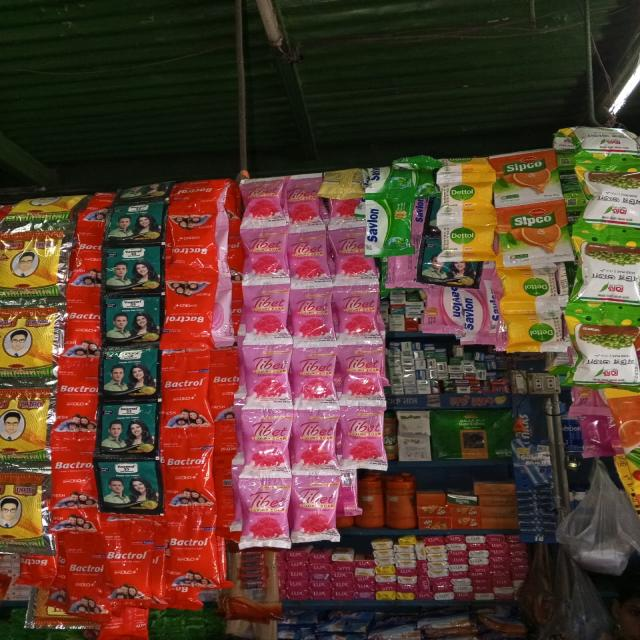non-ubl: (325, 217, 378, 299), (99, 538, 157, 611), (288, 474, 344, 546), (237, 410, 296, 476), (160, 368, 210, 444), (165, 523, 223, 588), (242, 276, 297, 341), (336, 402, 388, 470), (163, 275, 215, 343), (162, 450, 210, 523), (238, 342, 296, 402), (241, 483, 290, 551), (289, 412, 343, 473), (238, 174, 292, 234), (284, 228, 334, 292), (329, 282, 384, 340), (362, 194, 416, 253), (49, 451, 98, 515), (238, 222, 292, 279), (61, 558, 110, 618), (334, 340, 390, 392), (288, 350, 341, 404), (55, 380, 97, 448), (63, 308, 103, 376), (282, 172, 328, 231), (168, 210, 212, 268), (452, 285, 492, 348), (508, 317, 570, 354), (438, 216, 492, 258), (438, 176, 490, 216), (505, 268, 553, 310), (72, 234, 100, 299)
